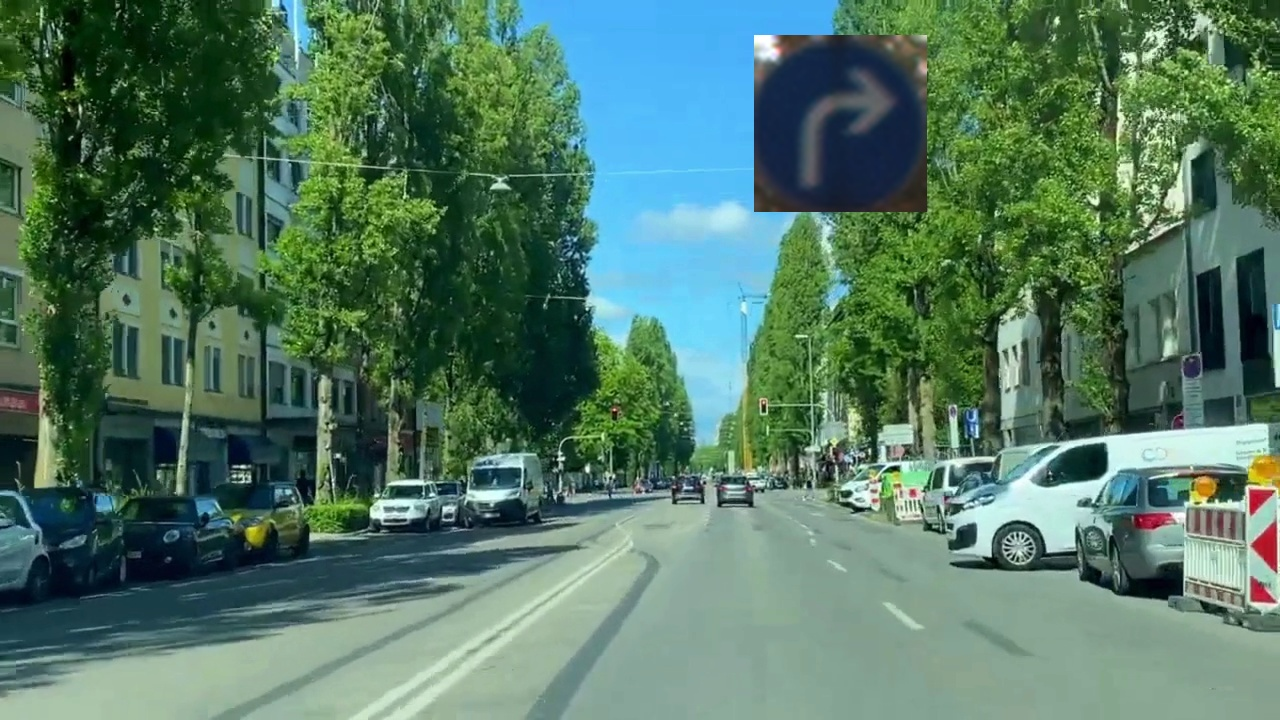Turn right: (754, 35, 927, 212)
